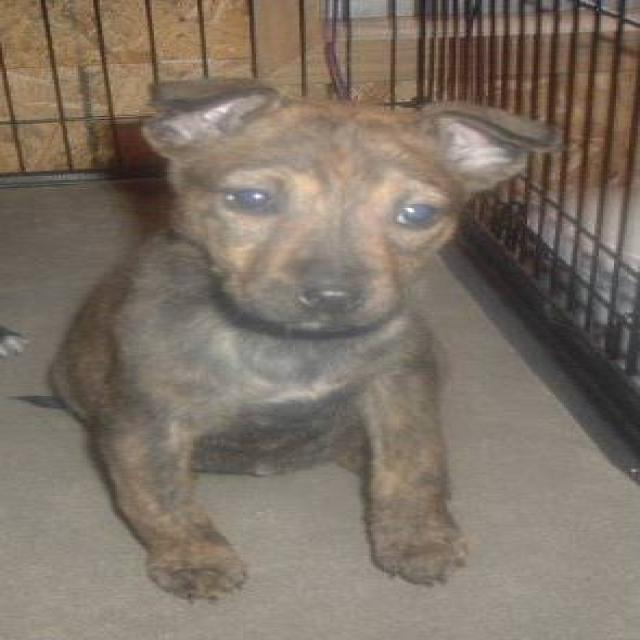dog: (7, 78, 564, 602)
